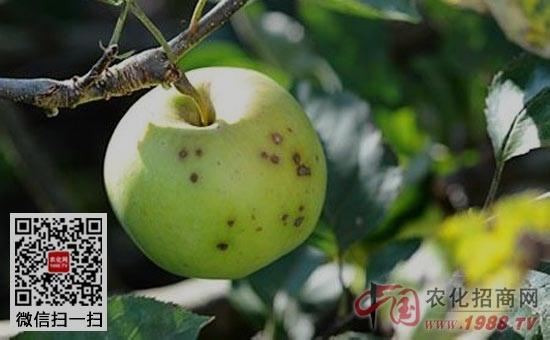rotten apple: (104, 69, 338, 281)
